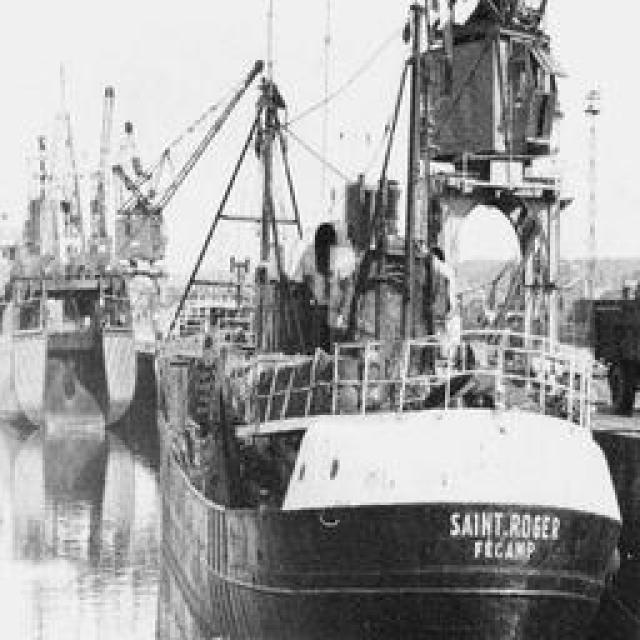Ship: (142, 26, 638, 640)
